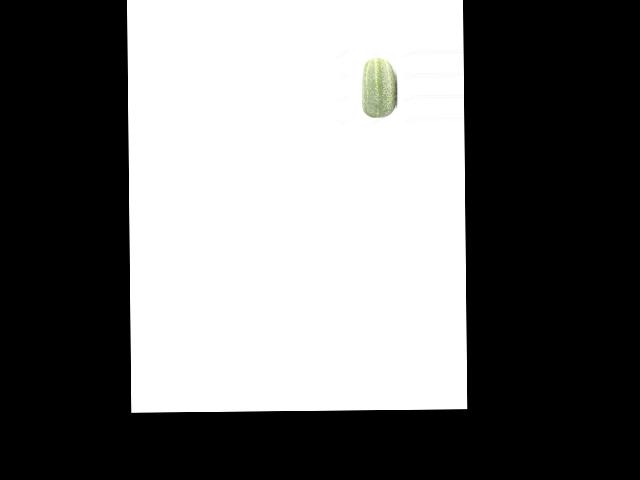cucumber: (361, 58, 396, 118)
